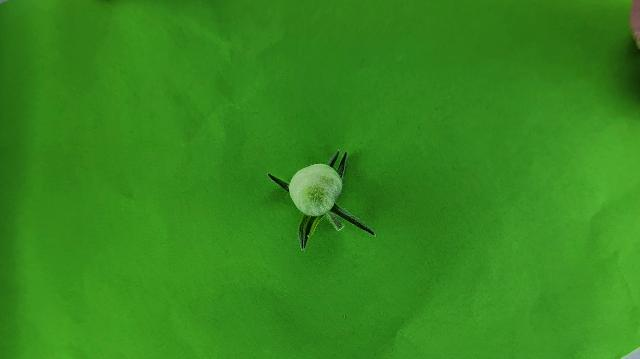Fruit Maturation: (288, 162, 344, 216)
